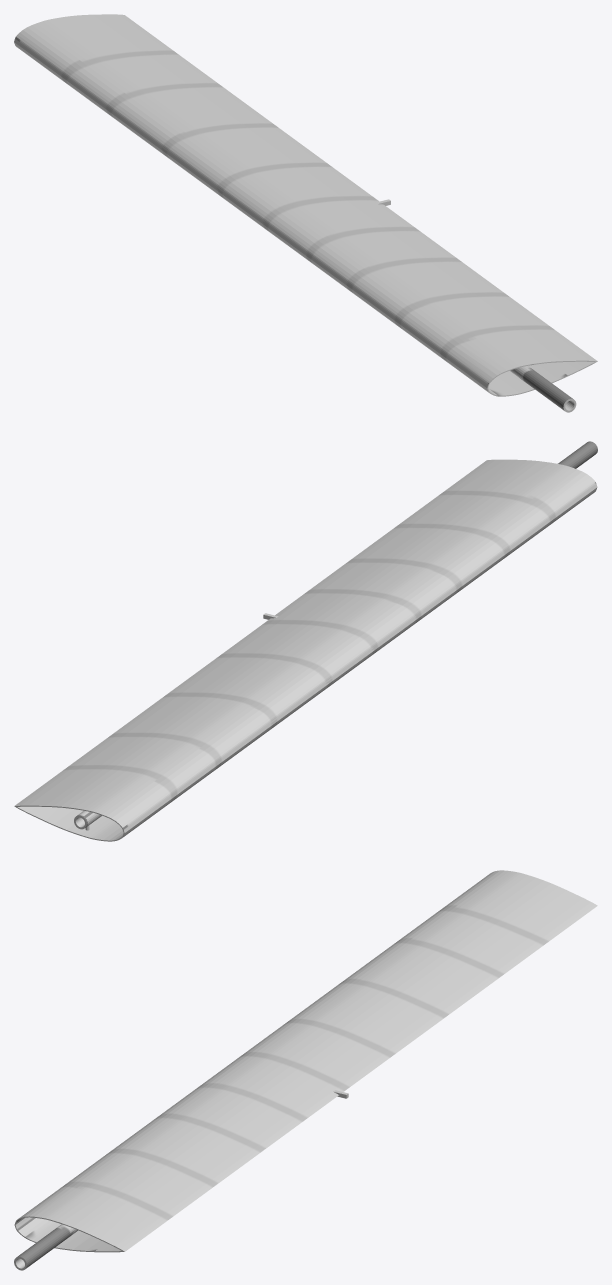
The model's file is wing.dae.
The picture shows the model from 3 angles, top to bottom: view 1: azimuth 30°, elevation 25°; view 2: azimuth 150°, elevation 25°; view 3: azimuth 330°, elevation 25°; orthographic projection.
Parts seen in each view (by area): view 1: wing; view 2: wing; view 3: wing.
Boxes of the visible parts, x1=… form: wing: x1=14, y1=14, x2=597, y2=412; wing: x1=14, y1=441, x2=597, y2=841; wing: x1=14, y1=870, x2=597, y2=1270.
Bounding box in the file's own units: 0.8128 × 6.1 × 0.183.
Materials: 1 (1 with a texture image).
